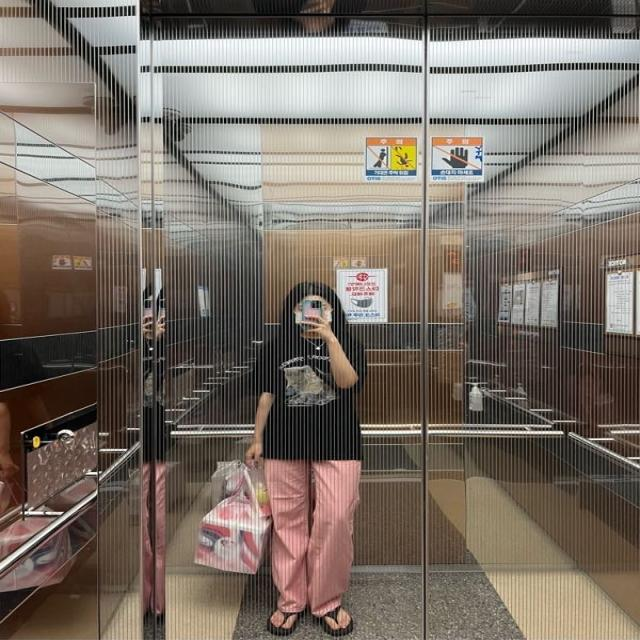cottonpants: (258, 461, 362, 616)
shortsleeve: (251, 333, 369, 462)
